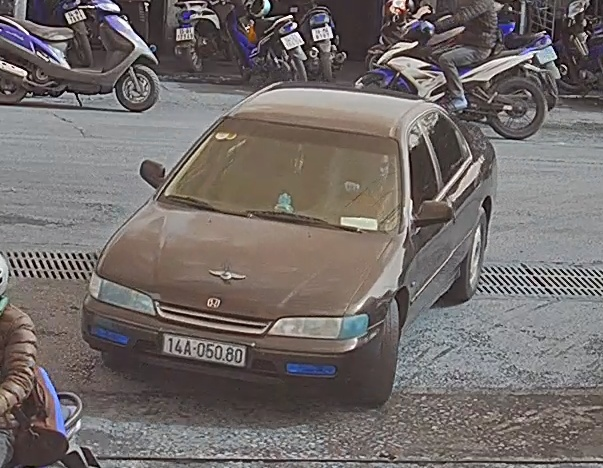vehicle plate: (159, 323, 256, 365)
